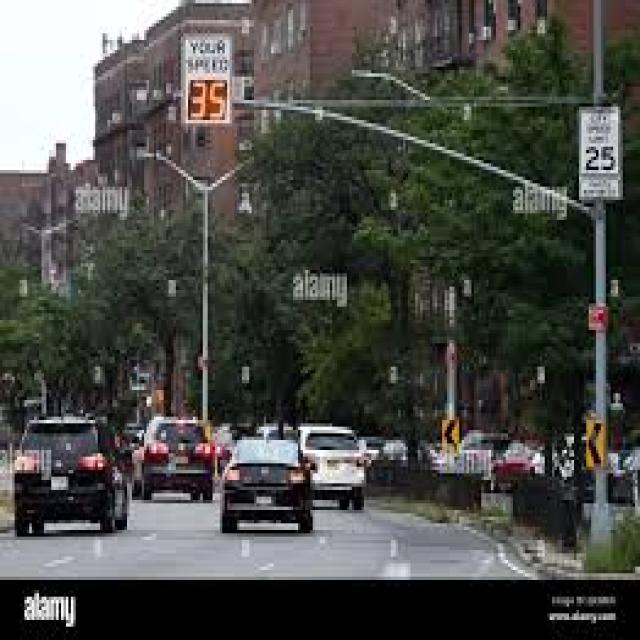speedLimit25: (581, 103, 620, 180)
